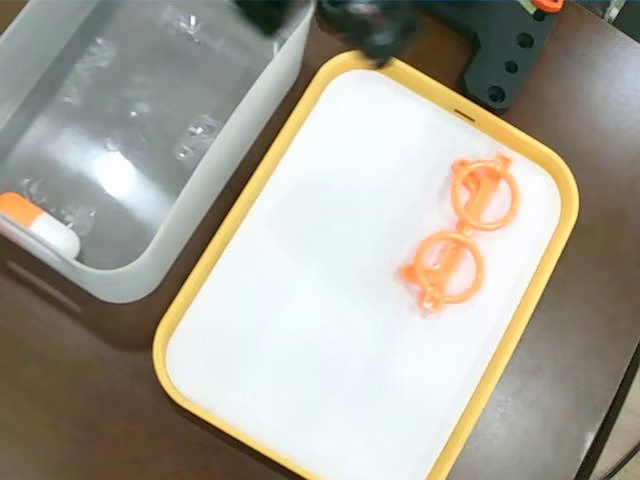pill: (1, 188, 79, 261)
